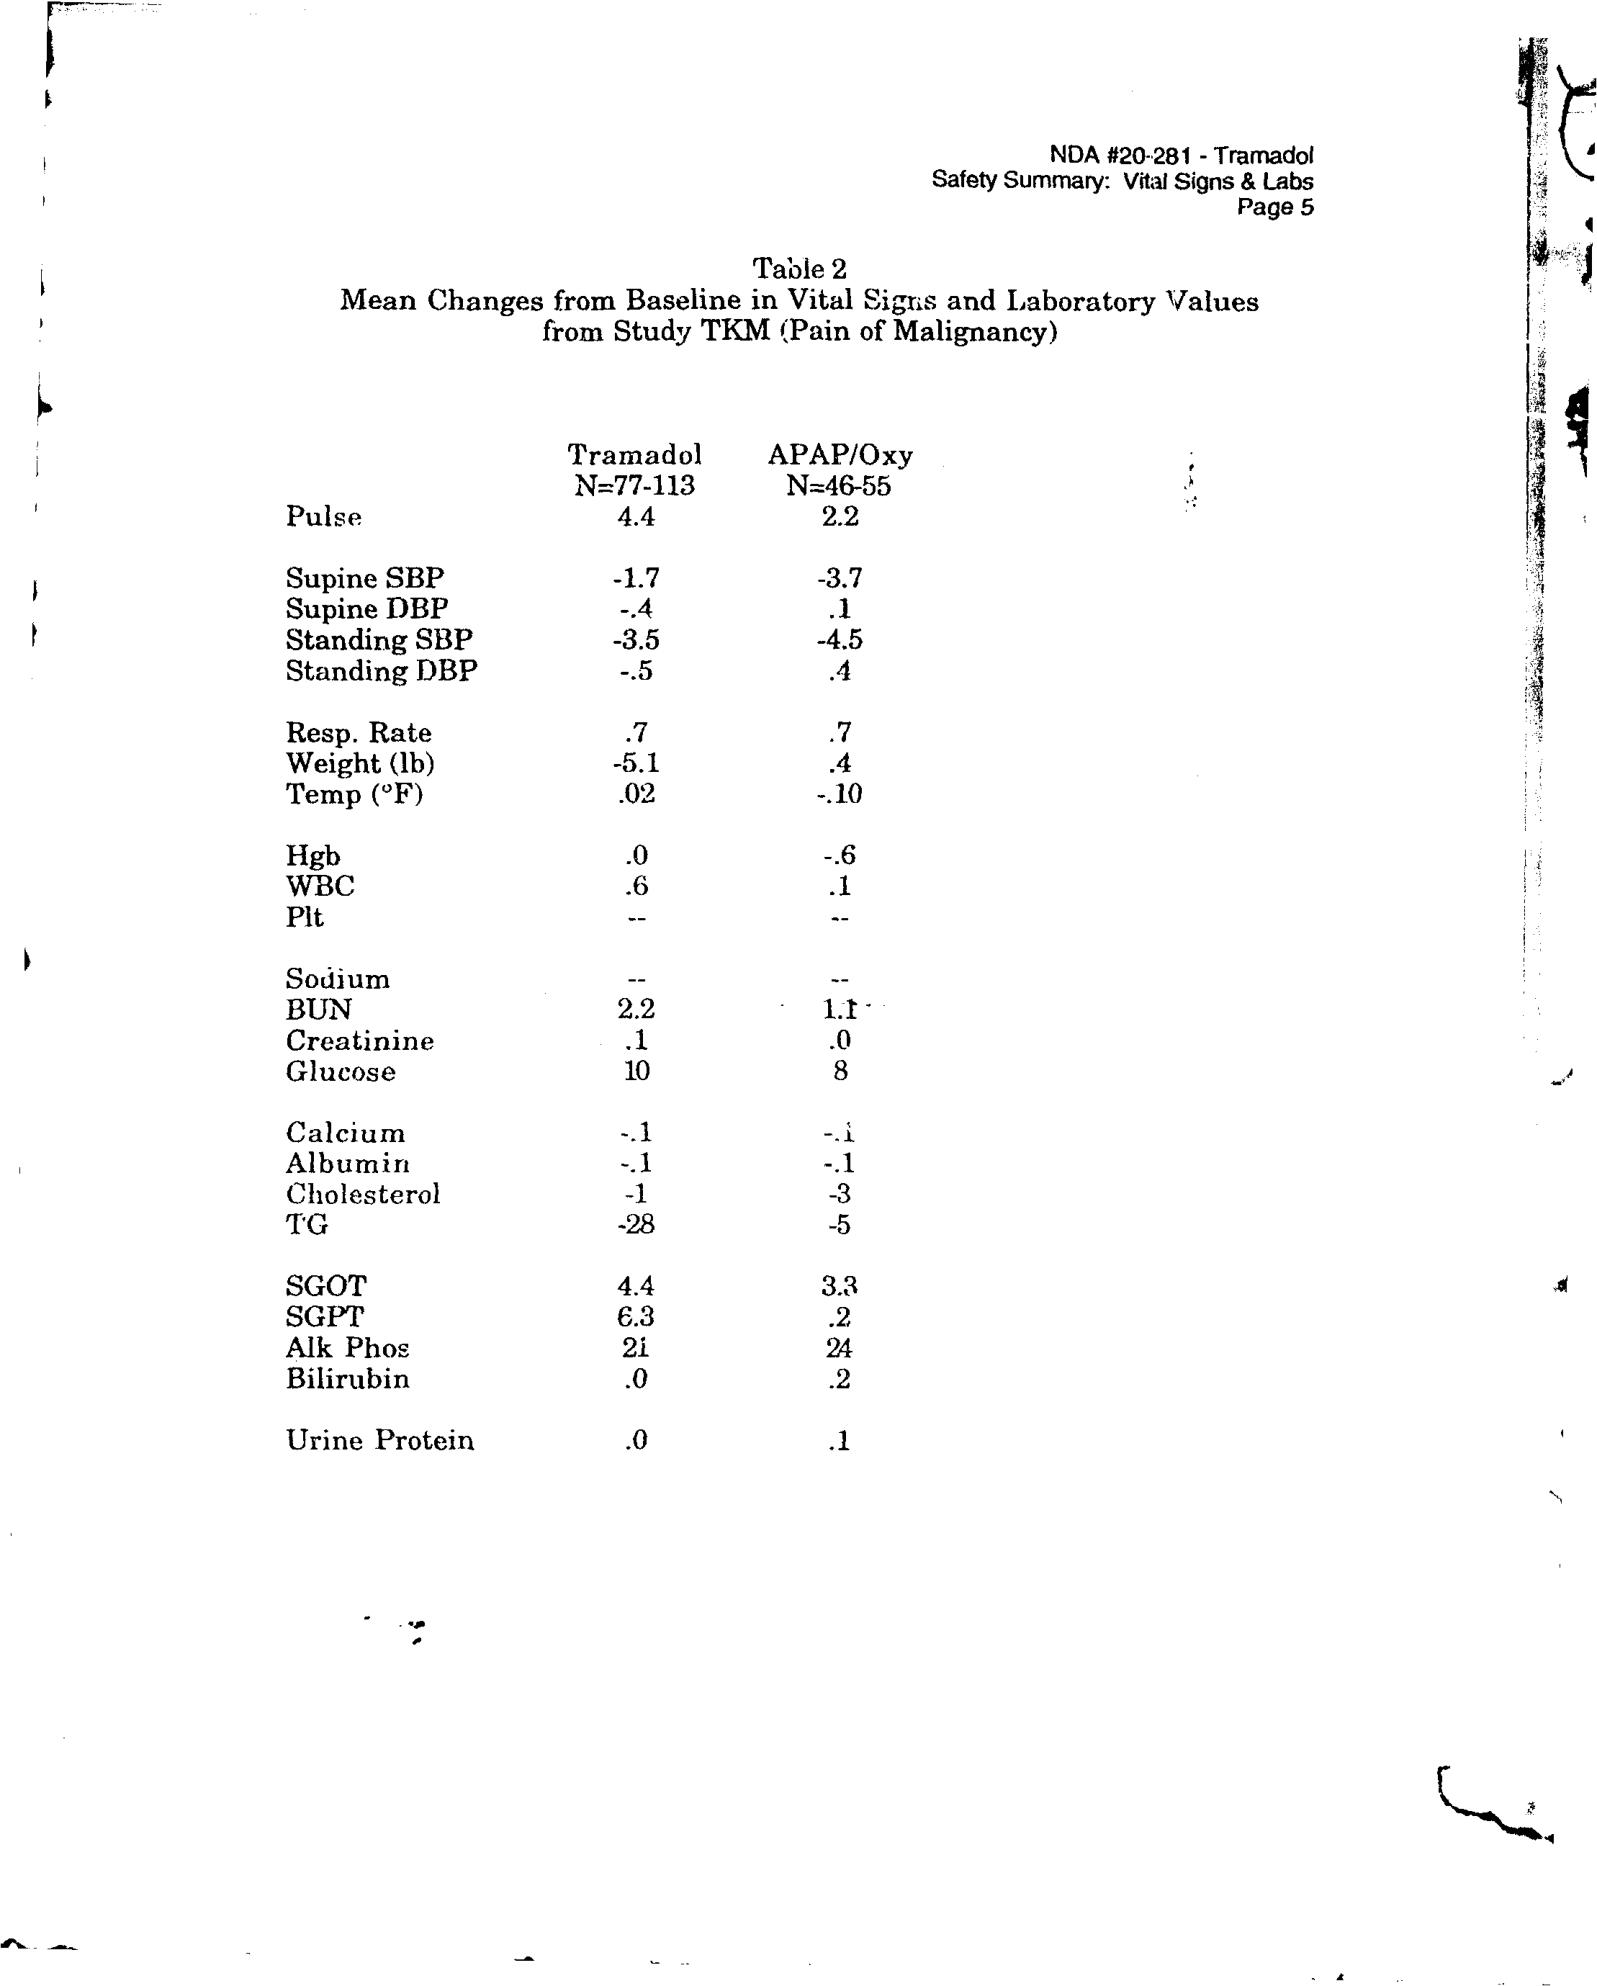nolines: (280, 437, 917, 1458)
